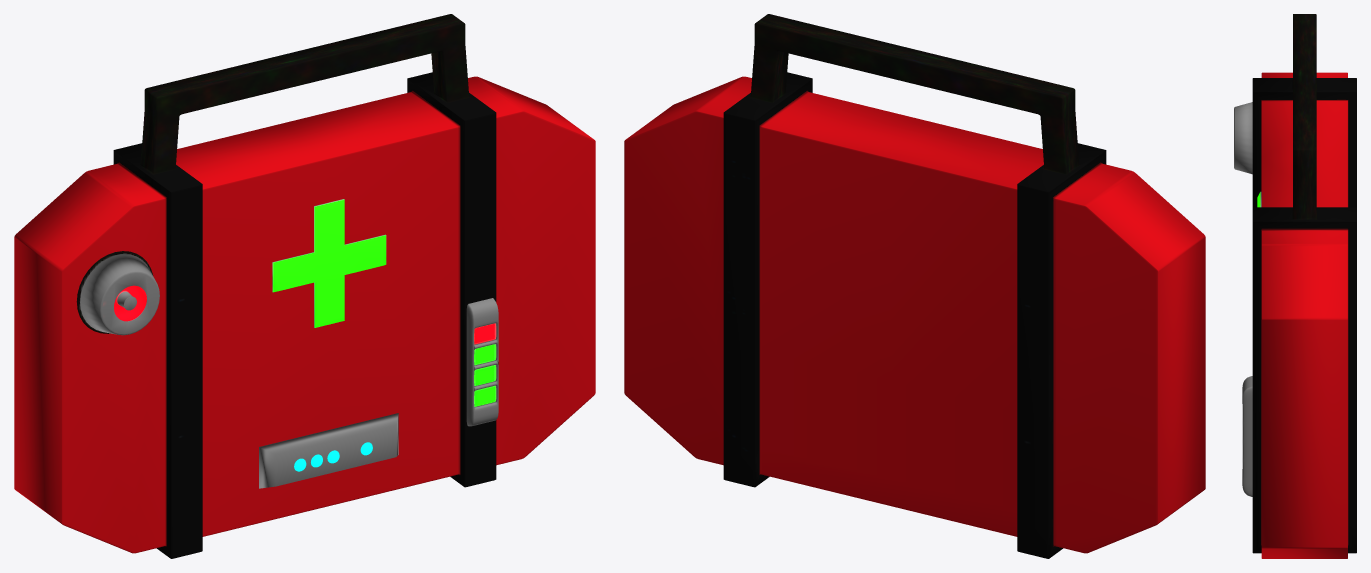
The model's file is MedKit.fbx.
3 renders of one model, left to right at view 1: azimuth 30°, elevation 25°; view 2: azimuth 150°, elevation 25°; view 3: azimuth 270°, elevation 25°, orthographic. The views are drawn at different scales.
Visible parts, largest first — view 1: First Aid Kit; view 2: First Aid Kit; view 3: First Aid Kit.
Part boxes in pixels (box(x1,y1,x2,y2)): First Aid Kit: box(14, 14, 595, 558); First Aid Kit: box(624, 14, 1205, 558); First Aid Kit: box(1234, 14, 1356, 558).
Size of the model in its own units: 321 by 255 by 70.84.
1 material, 1 textured.
